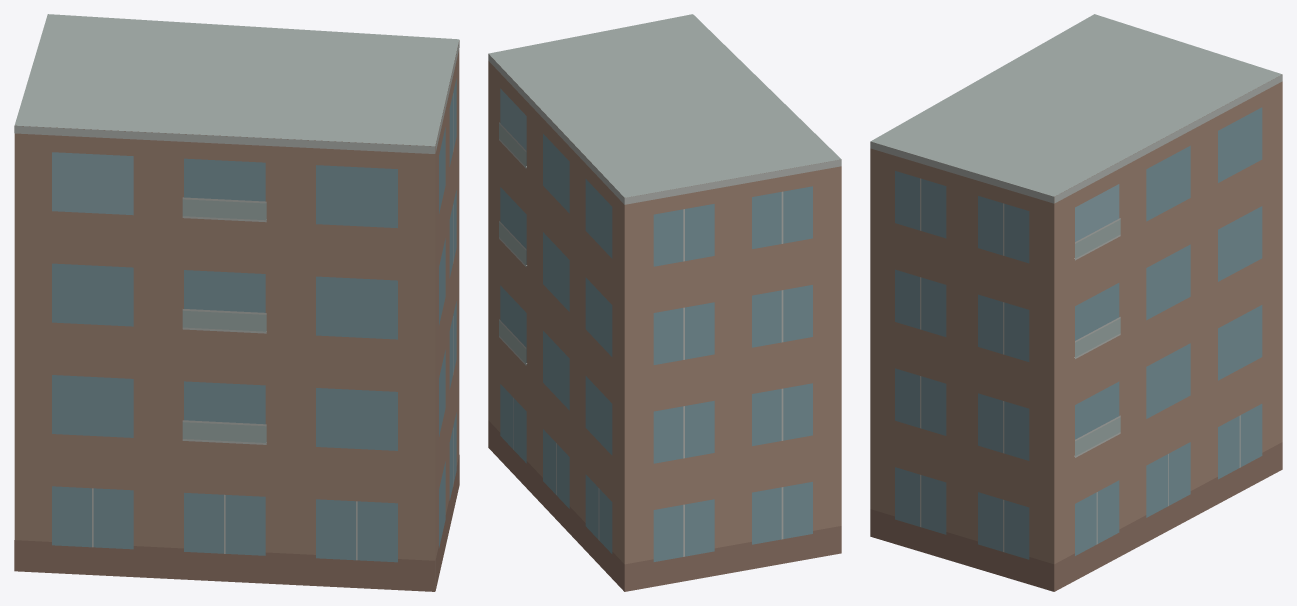
Rendered from survey-upis-32830452.glb.
3 views of the same model, side by side, from view 1: azimuth 30°, elevation 25°; view 2: azimuth 150°, elevation 25°; view 3: azimuth 270°, elevation 25° (orthographic). The views are drawn at different scales.
Visible parts, largest first — view 1: survey-upis-32830452.tmp; view 2: survey-upis-32830452.tmp; view 3: survey-upis-32830452.tmp.
Boxes of the visible parts, x1=… form: survey-upis-32830452.tmp: x1=14, y1=14, x2=459, y2=591; survey-upis-32830452.tmp: x1=488, y1=14, x2=841, y2=591; survey-upis-32830452.tmp: x1=870, y1=14, x2=1282, y2=591.
Bounding box in the file's own units: 13.77 × 13.87 × 13.12.
